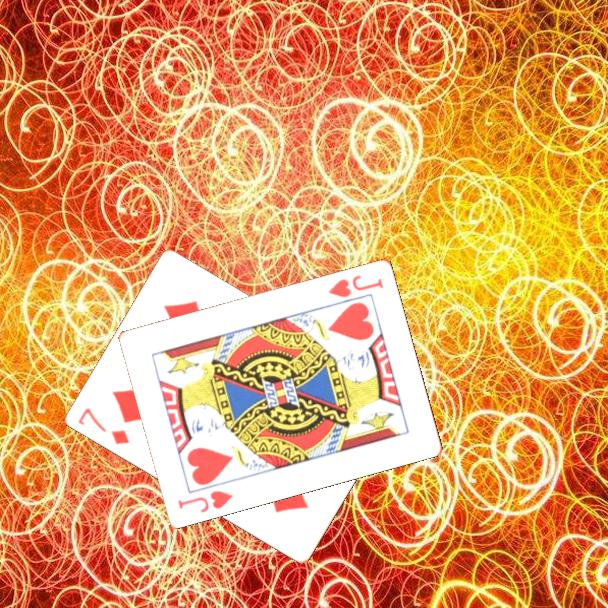d07: (74, 404, 132, 448)
h11: (325, 271, 386, 300), (175, 487, 236, 515)
